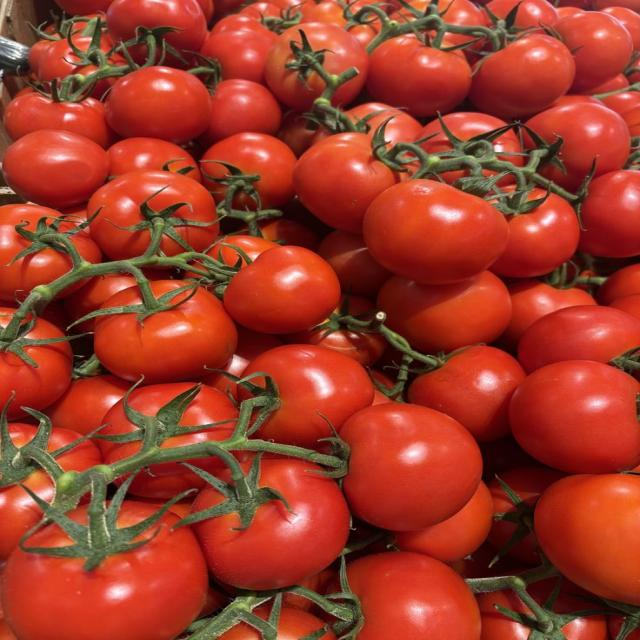tomato: (2, 514, 207, 639), (193, 458, 349, 590), (340, 404, 481, 531), (363, 179, 508, 285), (510, 360, 639, 473), (534, 474, 639, 605), (94, 288, 237, 383), (243, 345, 373, 448), (87, 169, 219, 260), (347, 552, 480, 639), (408, 346, 526, 441), (377, 271, 511, 353), (293, 133, 401, 233), (224, 246, 339, 334), (469, 32, 575, 118), (265, 23, 369, 110), (527, 103, 630, 190), (367, 34, 471, 117), (106, 66, 211, 144), (2, 130, 108, 207), (518, 305, 639, 372), (490, 188, 579, 278), (394, 482, 493, 562), (200, 132, 296, 210), (127, 382, 238, 448), (0, 204, 72, 304), (499, 279, 596, 349), (3, 93, 117, 148), (554, 12, 633, 91), (199, 326, 282, 399), (0, 453, 54, 561), (0, 340, 73, 419), (107, 0, 207, 56), (198, 79, 281, 146), (578, 170, 640, 258), (47, 375, 130, 434), (318, 231, 391, 298), (200, 28, 277, 84), (107, 138, 200, 182), (284, 328, 386, 366), (63, 273, 136, 326), (488, 465, 565, 514), (414, 112, 506, 153), (300, 0, 380, 46), (33, 32, 97, 86), (346, 102, 421, 144), (477, 590, 540, 639), (205, 235, 278, 268), (487, 0, 559, 28), (277, 606, 335, 639), (596, 263, 639, 304), (600, 6, 639, 50), (601, 91, 639, 116), (55, 0, 113, 15), (390, 0, 429, 22), (622, 107, 639, 137), (626, 627, 639, 639)
